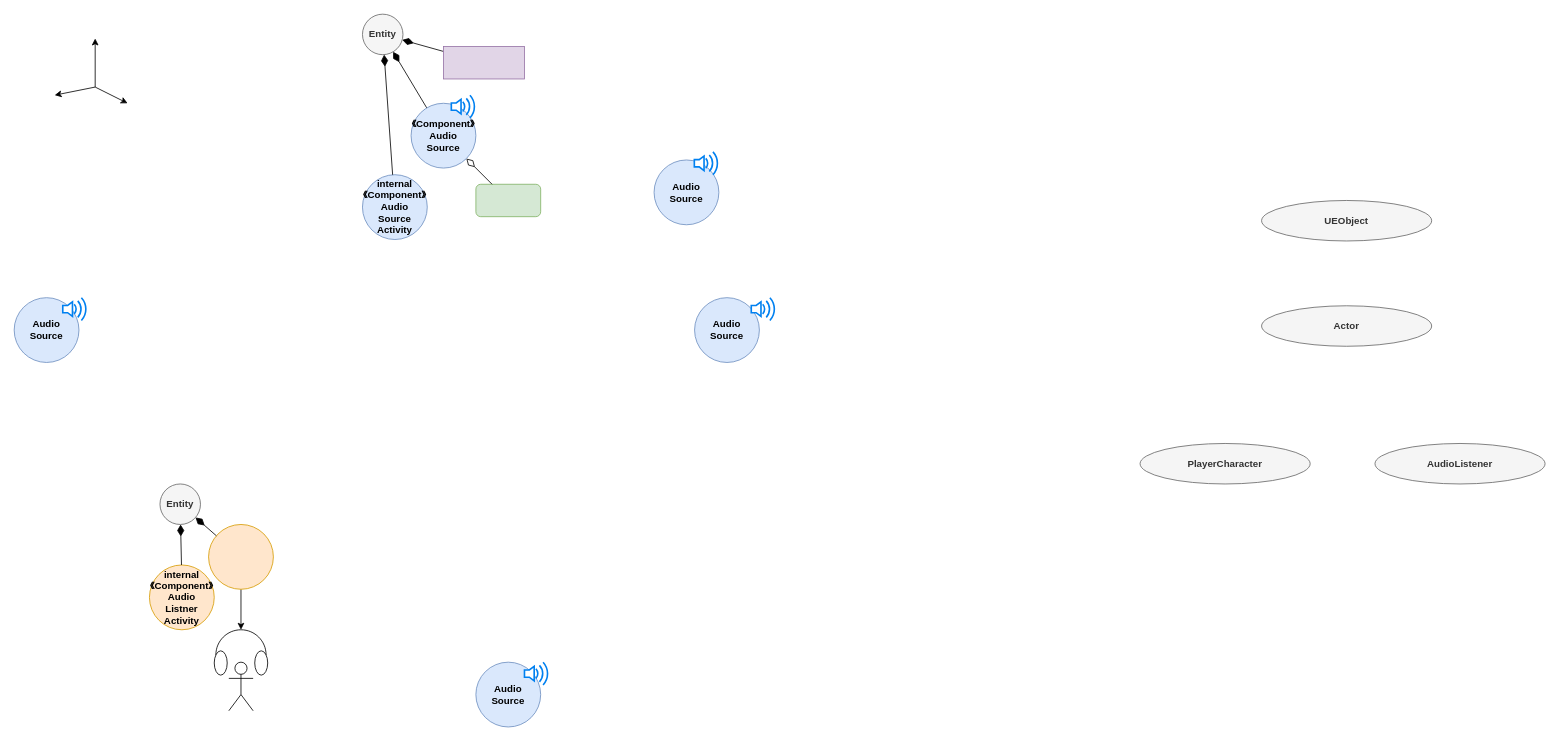
Image size: 1559x742. Some labels were removed from this diagram. Here are the shapes that lost their labels. From the top down, the centre of each, then its label:
the point at 483,62: 《Component》 Transform
the point at 508,200: 《Resource》 Audio Clip
the point at 240,556: 《Component》 Audio Listner
the point at 240,686: Player
